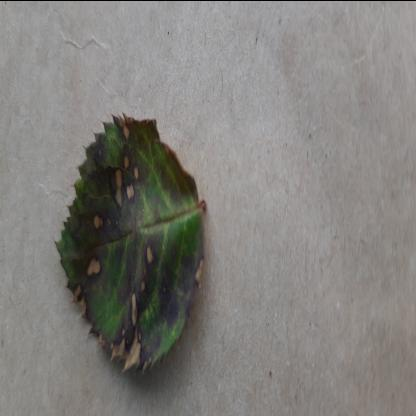powdery-mildew: (56, 108, 207, 386)
